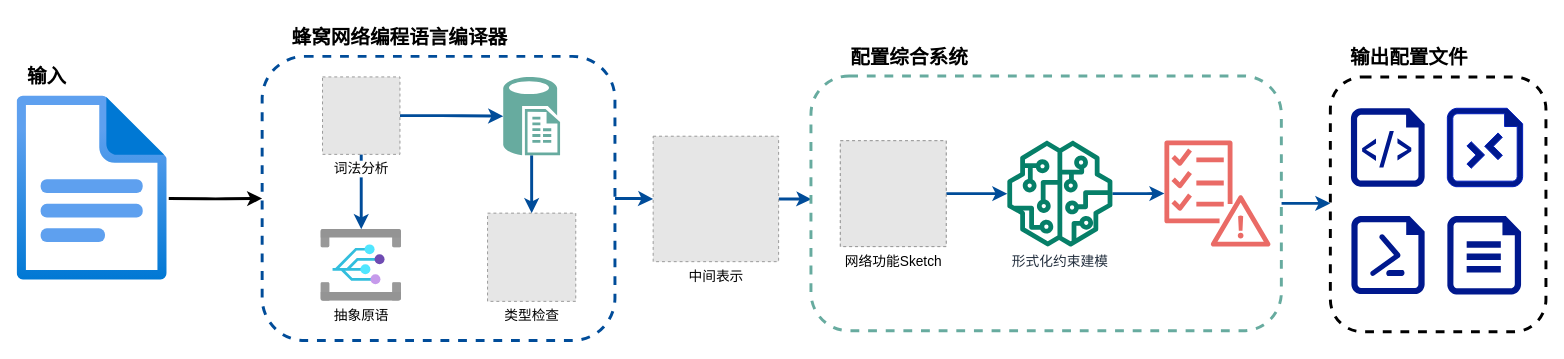
The diagram is 1564 pixels wide and 359 high, and some of its shapes have lost their labels. Grey dashed boxes stand in for pictures. The centre of each missing label's shape, as x and y in pixels:
"反例引导综合" belongs at (x=1217, y=193).
"蜂窝网络意图" belongs at (x=92, y=187).
"语法分析" belongs at (x=531, y=115).
